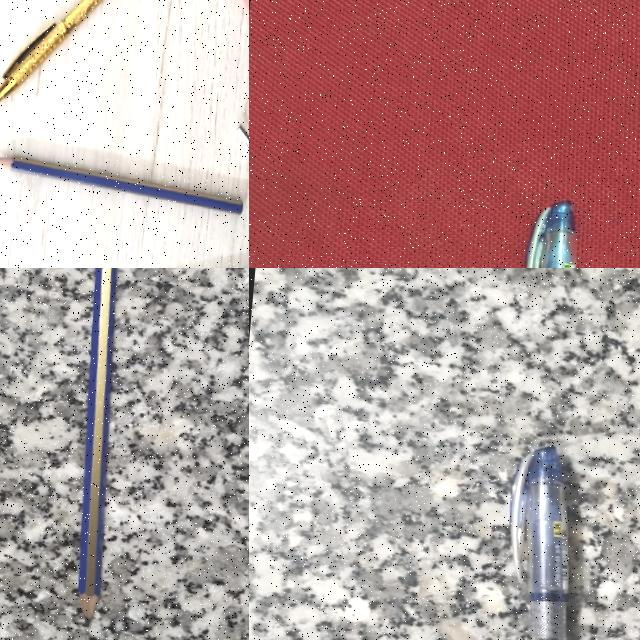pen: (511, 446, 568, 639), (523, 199, 575, 268)
pencil: (0, 153, 240, 213), (78, 268, 117, 621)
signature pen: (0, 0, 146, 119)
